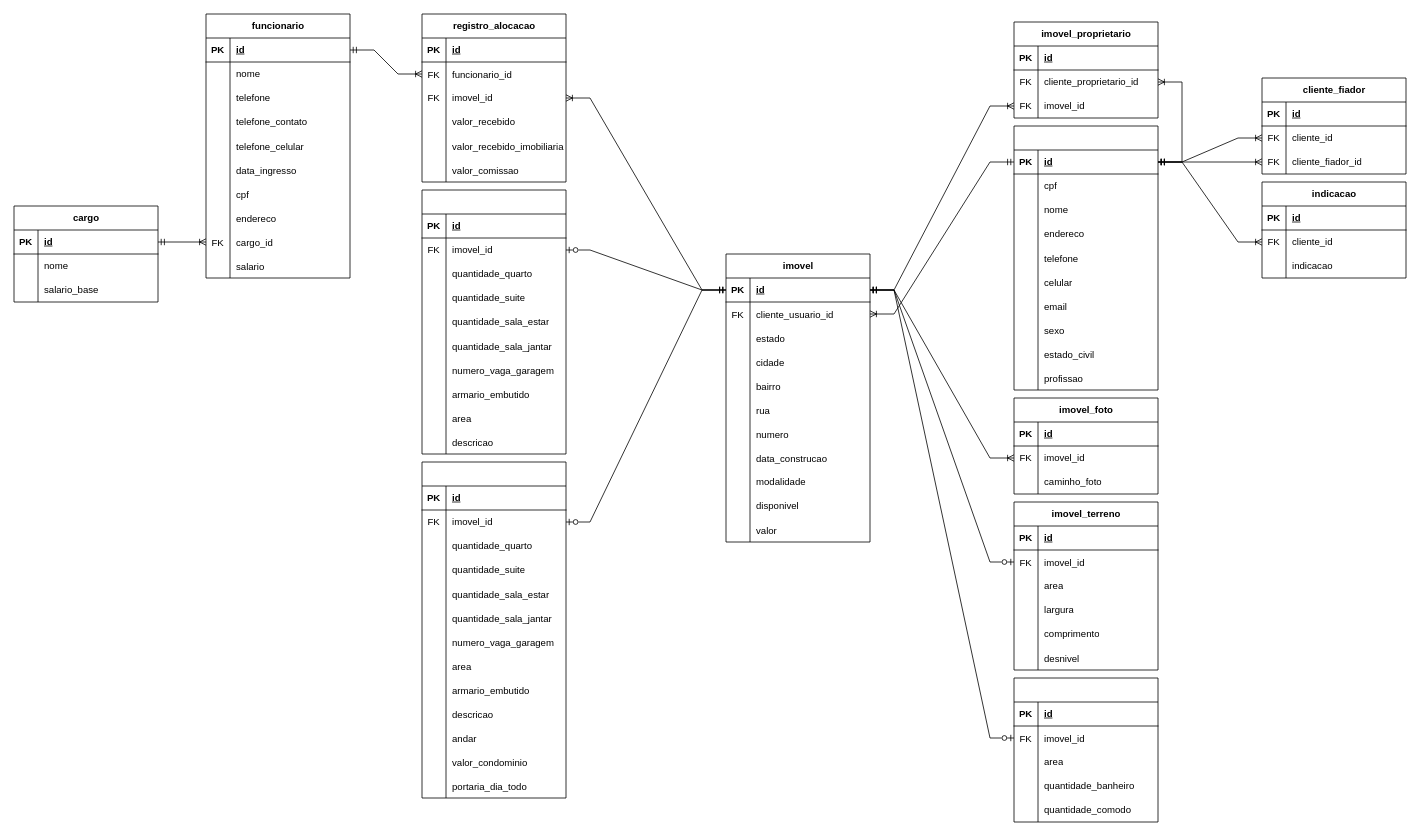
Some shapes in this 1420 by 836 pixel diagram are drawn without their labels. The box of each missing label's shape, as (x1, y1, x2, y2) in pixels:
cliente: (1013, 125, 1158, 390)
imovel_apartamento: (421, 461, 566, 798)
imovel_casa: (421, 189, 566, 454)
imovel_sala_comercial: (1013, 677, 1158, 822)
